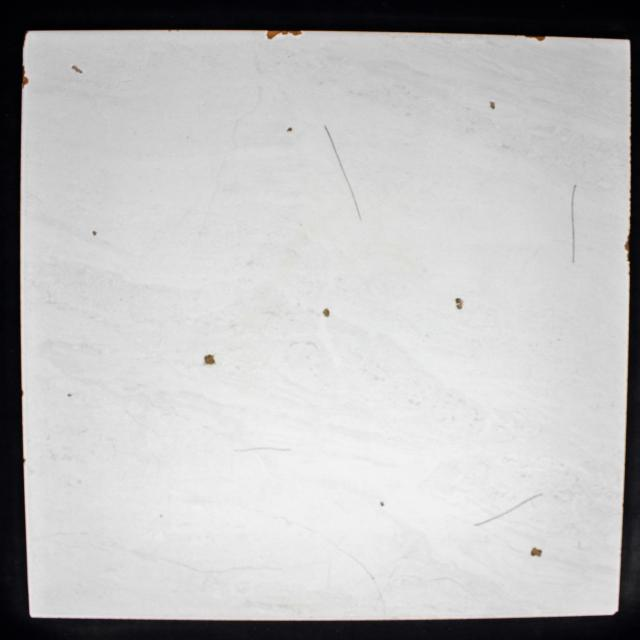edge-chipping: (524, 35, 546, 43), (623, 232, 631, 252), (266, 29, 280, 40), (290, 30, 304, 37), (21, 76, 30, 86), (23, 30, 28, 48), (280, 30, 288, 36), (22, 64, 26, 75), (626, 253, 630, 263)
hole: (202, 354, 217, 366), (530, 547, 543, 558), (70, 64, 84, 74), (454, 297, 464, 310), (322, 307, 331, 319), (489, 100, 496, 111), (286, 126, 294, 133), (91, 230, 98, 236)
line: (322, 124, 344, 174), (345, 551, 376, 580), (344, 175, 362, 221), (472, 510, 510, 528), (511, 492, 544, 510), (570, 183, 577, 264), (232, 446, 292, 454)
